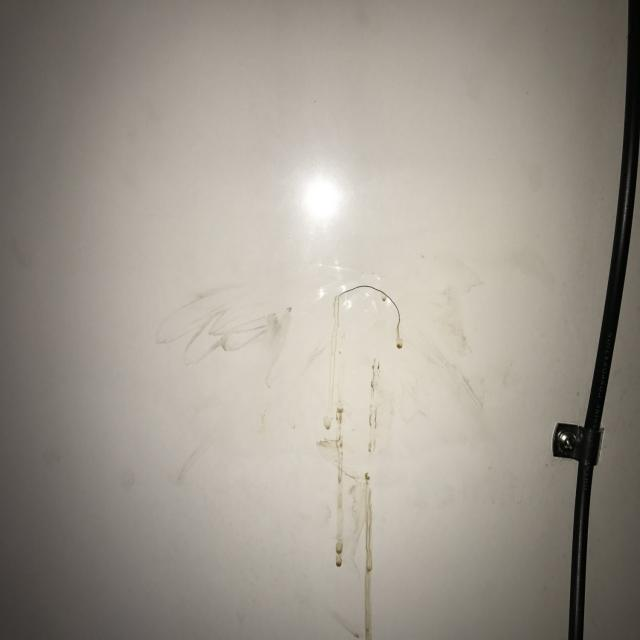Rupture: (327, 281, 403, 351)
